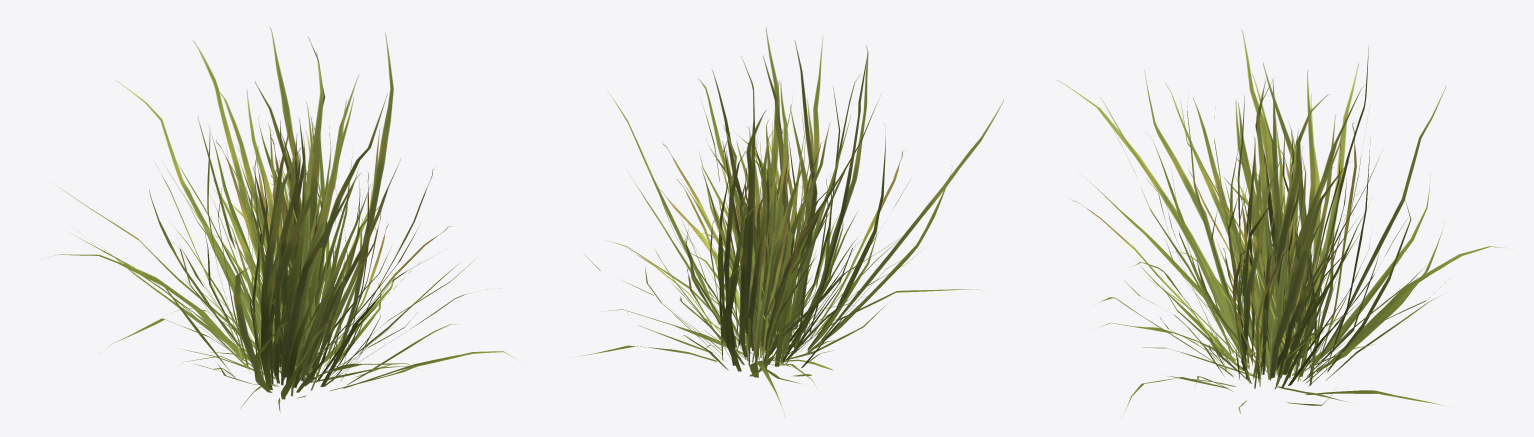
The model's file is grass-cosmic-a.glb.
The picture shows the model from 3 angles, left to right: view 1: azimuth 30°, elevation 25°; view 2: azimuth 150°, elevation 25°; view 3: azimuth 270°, elevation 25°; orthographic projection. The views are drawn at different scales.
Parts seen in each view (by area): view 1: Grass1; view 2: Grass1; view 3: Grass1.
Boxes of the visible parts, left/top/right/bottom form: Grass1: left=50, top=27, right=516, bottom=412; Grass1: left=580, top=28, right=1003, bottom=416; Grass1: left=1057, top=30, right=1504, bottom=413.
Size of the model in its own units: 0.7104 by 0.6071 by 0.7709.
3 materials, 3 textured.
